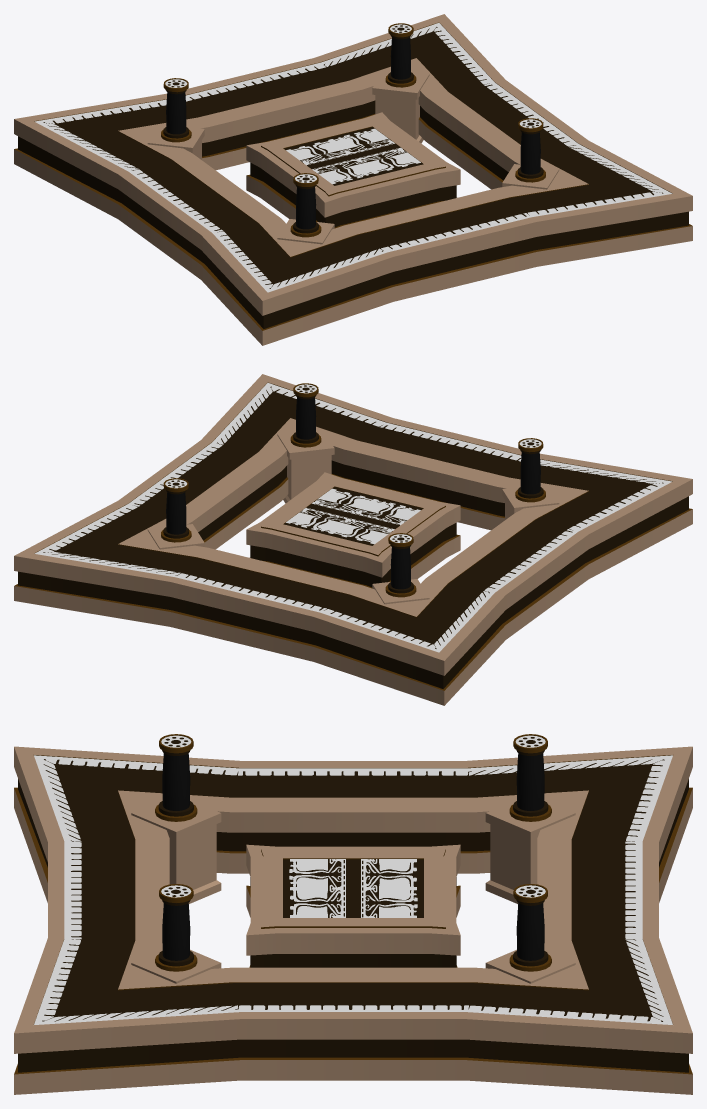
File: PressetLevel.2.fbx
3 renders of one model, top to bottom at view 1: azimuth 30°, elevation 25°; view 2: azimuth 150°, elevation 25°; view 3: azimuth 270°, elevation 25°, orthographic. The views are drawn at different scales.
Parts seen in each view (by area): view 1: Cube.001, Cylinder.004; view 2: Cube.001, Cylinder.004; view 3: Cube.001, Cylinder.004.
Part boxes in pixels (box(x1,y1,x2,y2)): Cube.001: box(14, 14, 692, 345); Cylinder.004: box(147, 23, 559, 244); Cube.001: box(14, 374, 692, 705); Cylinder.004: box(147, 383, 559, 604); Cube.001: box(14, 746, 692, 1094); Cylinder.004: box(131, 734, 575, 983).
Bounding box in the file's own units: 2920 × 708 × 2920.
